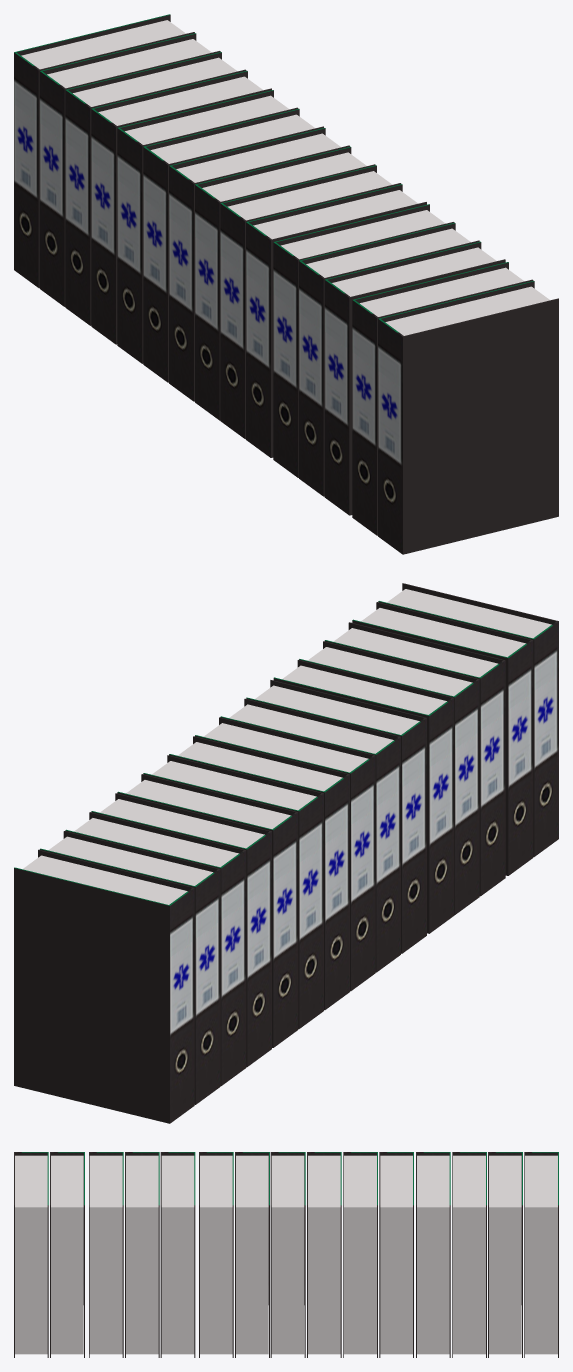
Rendered from Files 2.FBX.
The picture shows the model from 3 angles, top to bottom: view 1: azimuth 30°, elevation 25°; view 2: azimuth 150°, elevation 25°; view 3: azimuth 270°, elevation 25°; orthographic projection. The views are drawn at different scales.
Visible parts, largest first — view 1: Files 2; view 2: Files 2; view 3: Files 2.
Boxes of the visible parts, x1,y1,x2,y2 form: Files 2: [14, 14, 558, 554]; Files 2: [14, 583, 558, 1123]; Files 2: [14, 1152, 558, 1357].
Size of the model in its own units: 181 by 782 by 242.
Materials: 1 (1 with a texture image).
